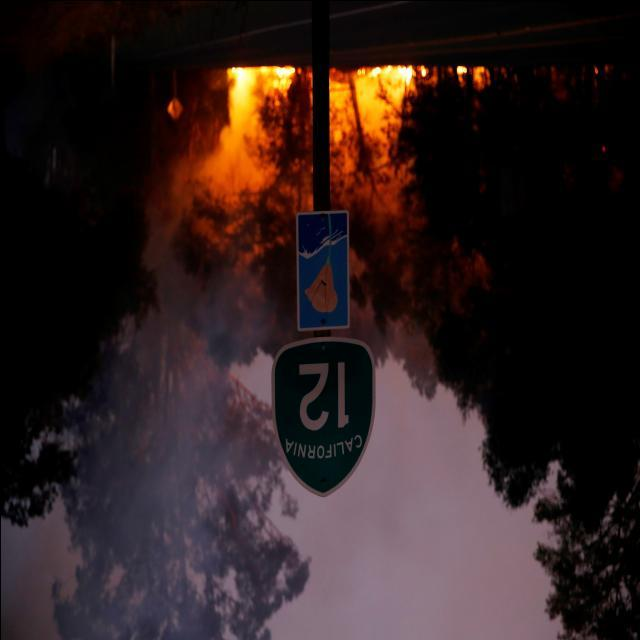Fire: (189, 66, 423, 264)
